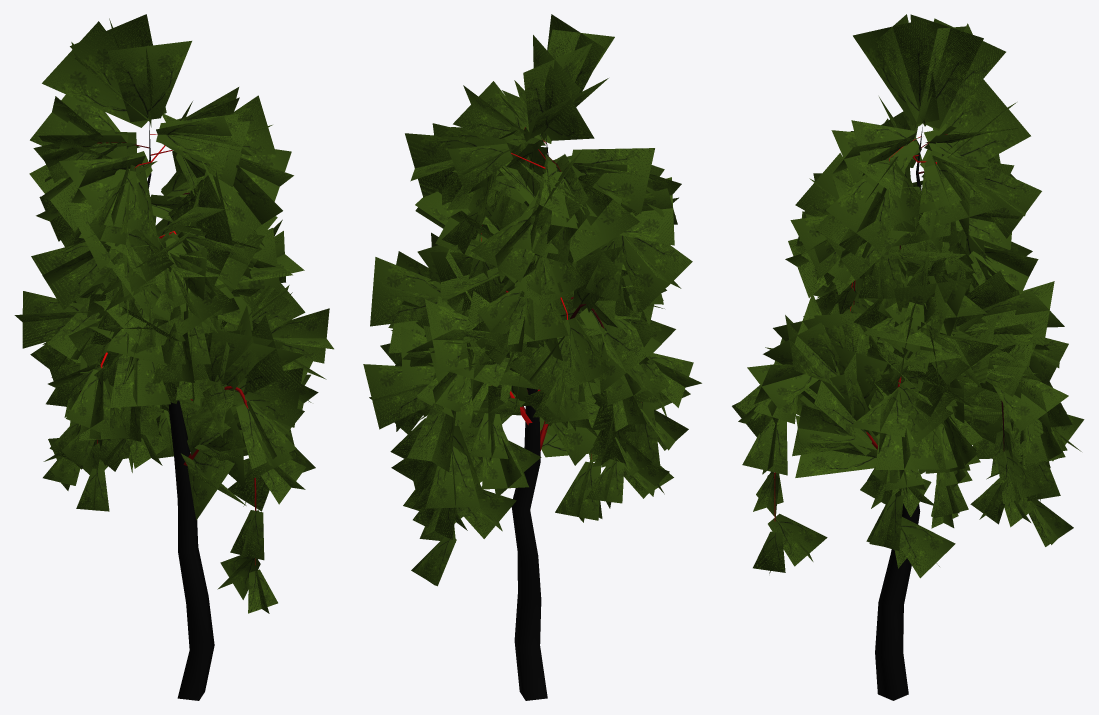
File: birch 5 lod0.FBX
3 renders of one model, left to right at view 1: azimuth 30°, elevation 25°; view 2: azimuth 150°, elevation 25°; view 3: azimuth 270°, elevation 25°, orthographic. The views are drawn at different scales.
Visible parts, largest first — view 1: birch5; view 2: birch5; view 3: birch5.
Boxes of the visible parts, x1,y1,x2,y2 form: birch5: (14,14,333,700); birch5: (363,14,701,700); birch5: (732,14,1084,700).
Size of the model in its own units: 64070 by 139974 by 67986.
